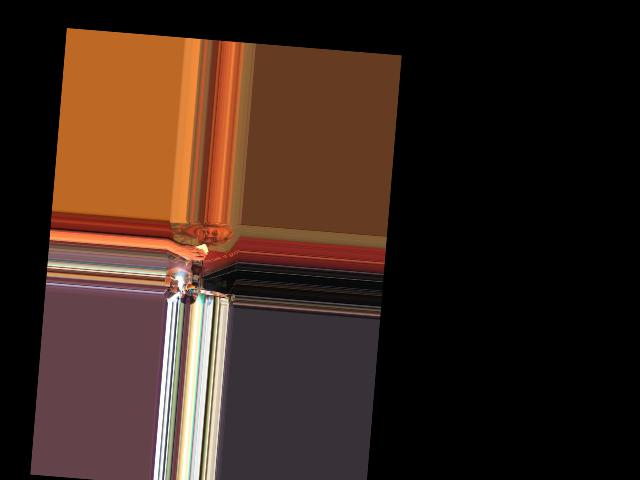beer: (190, 248, 204, 287)
